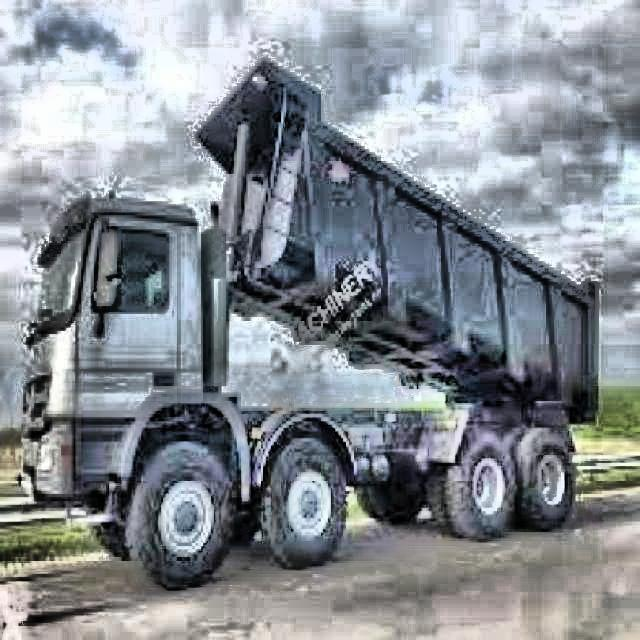dump_truck: (13, 41, 607, 604)
